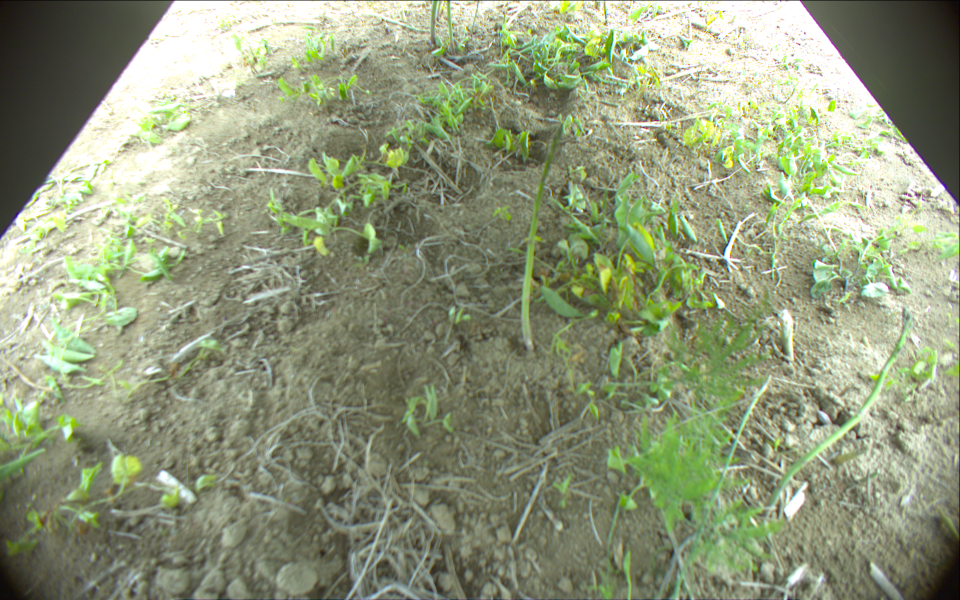aspa: (762, 311, 910, 518), (671, 375, 774, 600), (520, 124, 563, 352), (446, 1, 456, 52), (430, 1, 438, 47), (602, 1, 610, 25)
